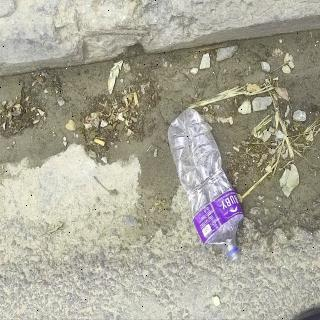Plastic-bottle: (166, 106, 246, 267)
